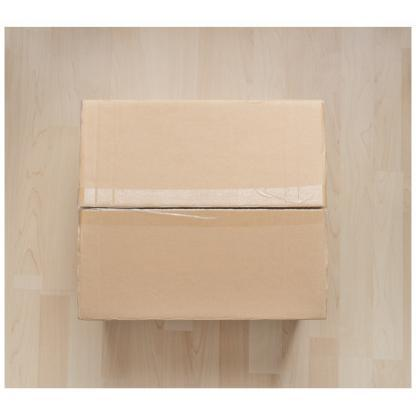package: (81, 102, 325, 316)
